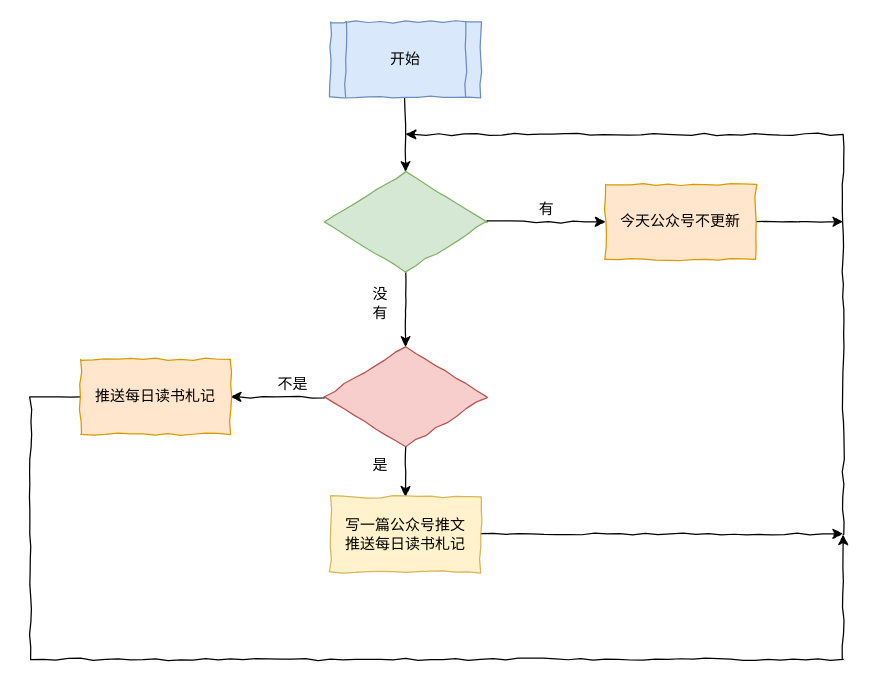
Some shapes in this 875 by 691 pixel diagram are drawn without their labels. Here are the shapes that lost their labels. From the top down, the box of each, then its label:
(323, 171, 487, 272): 今天有没有 特殊情况？
(323, 346, 487, 447): 今天是周六吗
